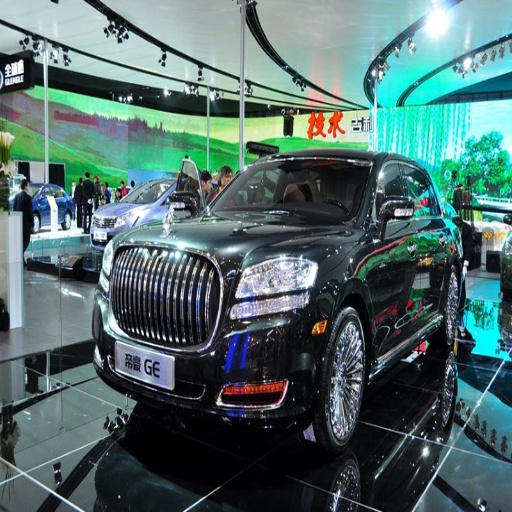front_bumper: (178, 290, 329, 422)
front_glass: (209, 160, 368, 222)
front_left_door: (369, 157, 427, 354)
